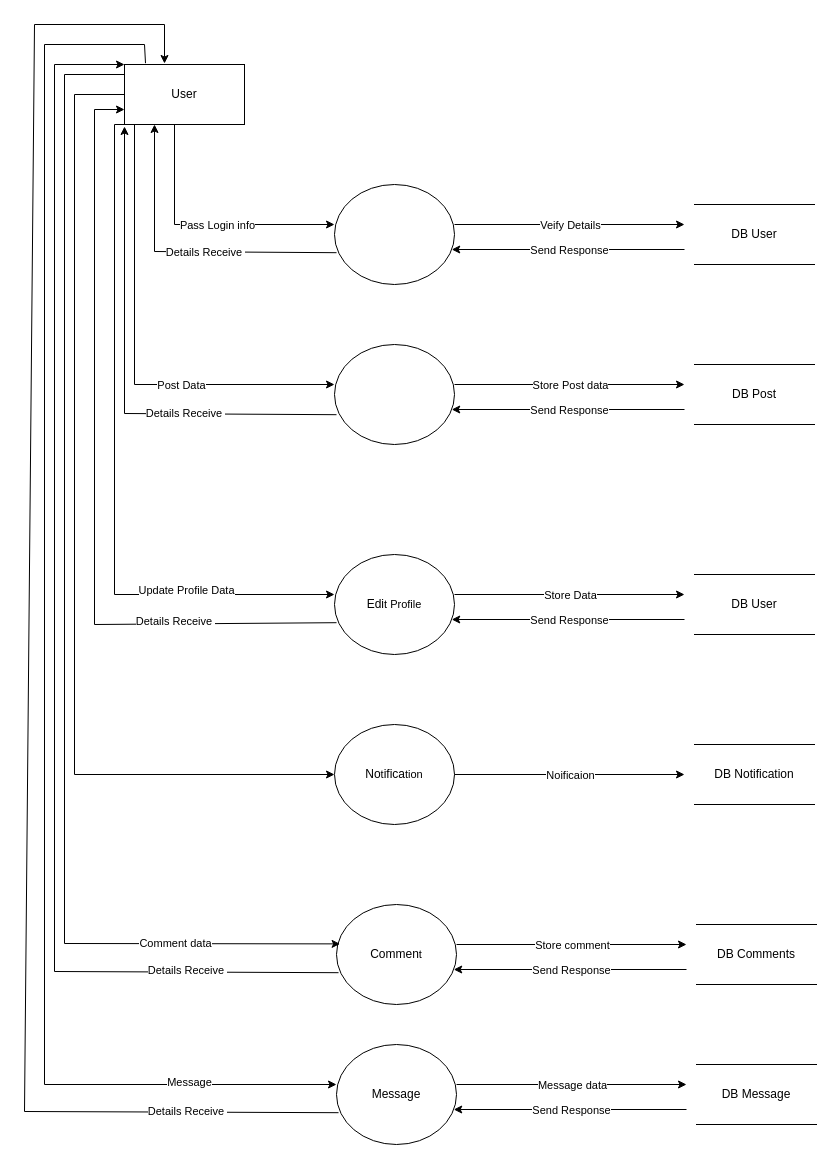
The diagram is 834 pixels wide and 1162 high, and some of its shapes have lost their labels. Here are the shapes that lost their labels. From the top down, the centre of each, then its label:
At [394,234]: "Login".
At [394,394]: "Crea te Pos t".
